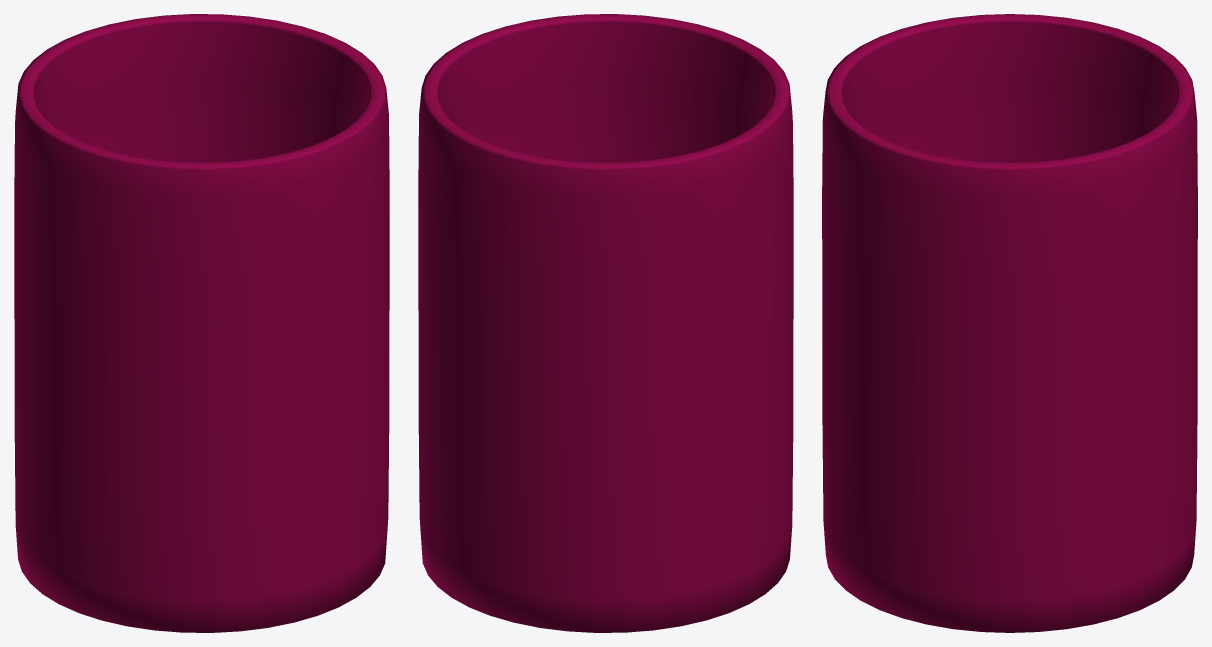
File: Pen_Mug.fbx
The picture shows the model from 3 angles, left to right: view 1: azimuth 30°, elevation 25°; view 2: azimuth 150°, elevation 25°; view 3: azimuth 270°, elevation 25°; orthographic projection.
Visible parts, largest first — view 1: Pen_Mug; view 2: Pen_Mug; view 3: Pen_Mug.
Boxes of the visible parts, box(x1,y1,x2,y2) form: Pen_Mug: box(14, 14, 389, 632); Pen_Mug: box(418, 14, 793, 632); Pen_Mug: box(822, 14, 1197, 632).
Bounding box in the file's own units: 46.99 × 64.59 × 46.99.
